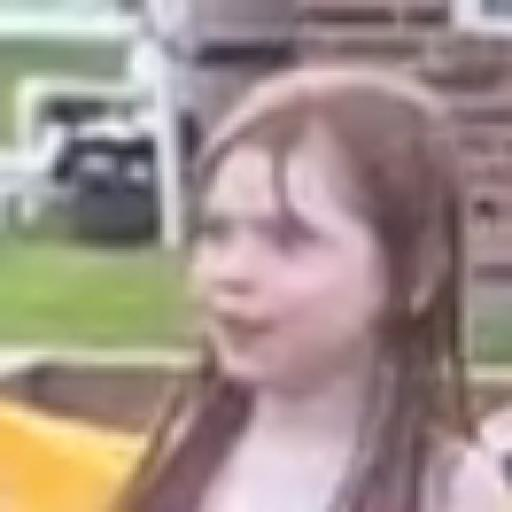Autism: (172, 76, 474, 459)
